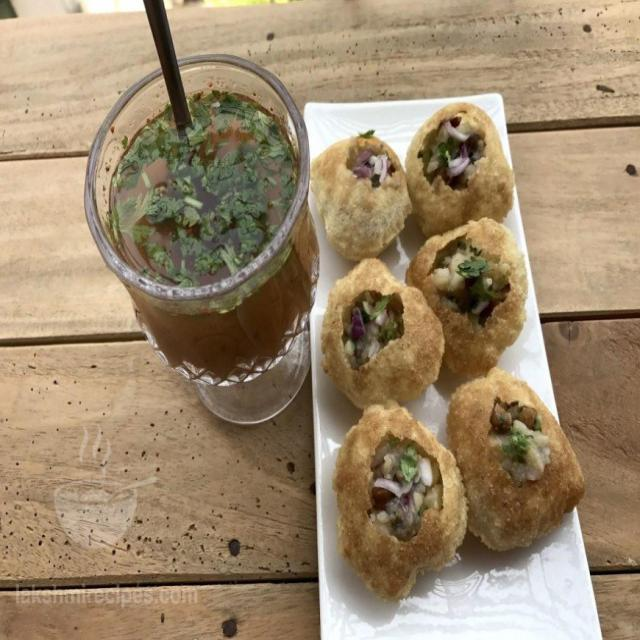paani_puri: (310, 101, 565, 621)
